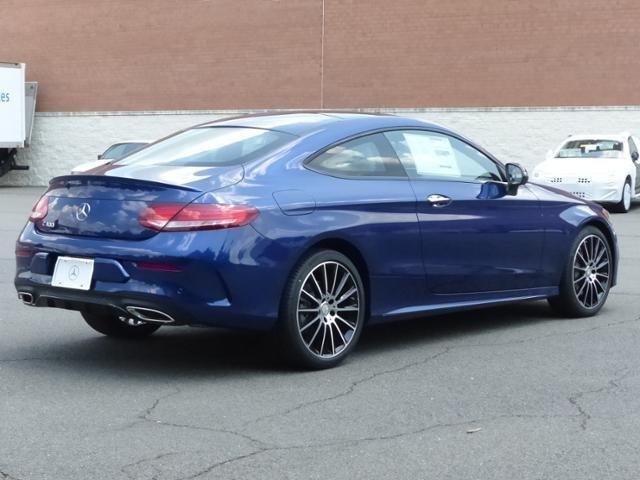C300Coupe: (10, 106, 626, 370)
